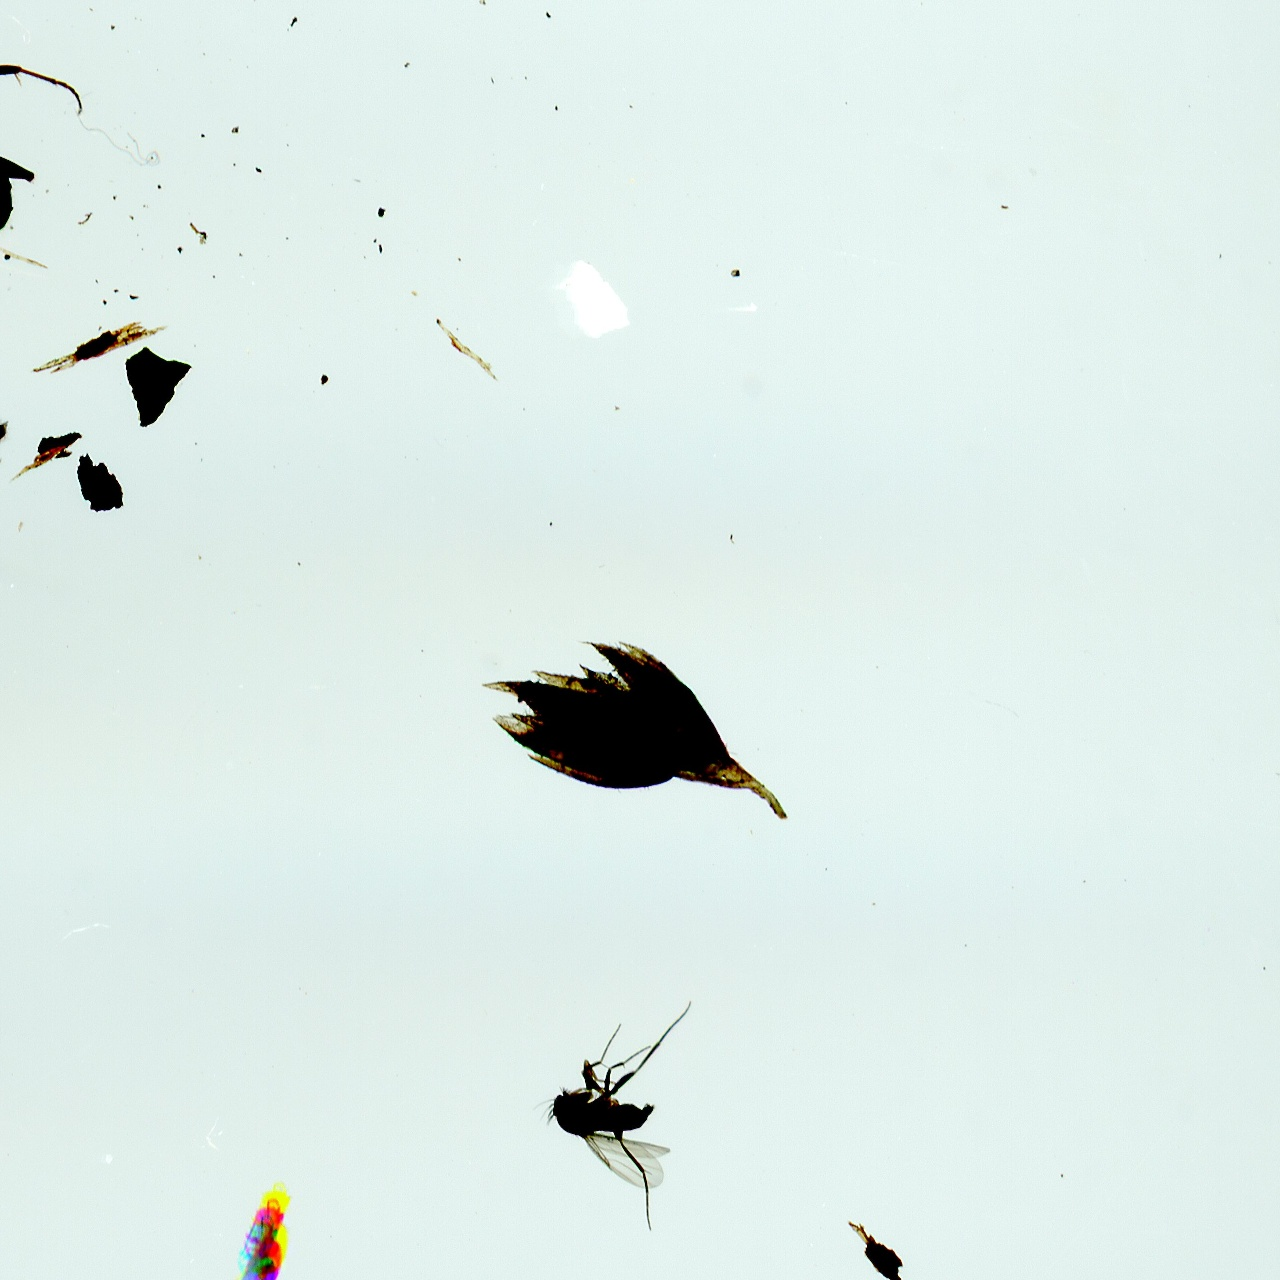arthropod: (527, 995, 696, 1234), (0, 0, 91, 278), (0, 401, 26, 507)
